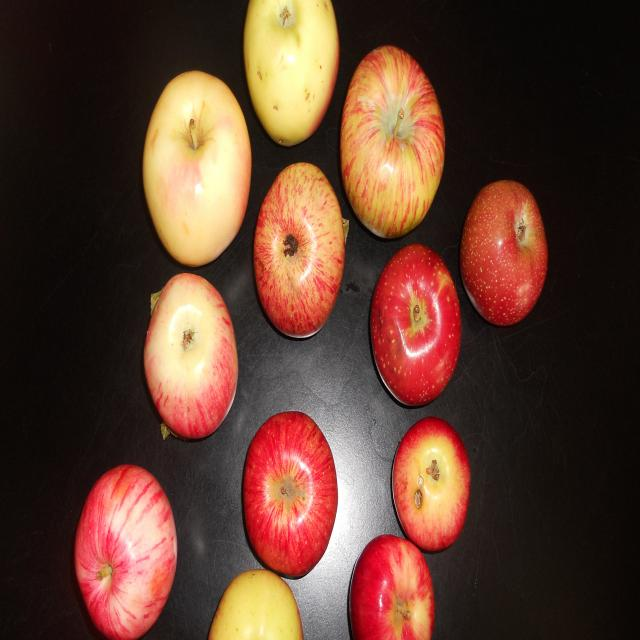Apple: (141, 66, 251, 267), (340, 43, 448, 234), (73, 459, 180, 640), (252, 169, 352, 339), (140, 269, 239, 434), (240, 411, 342, 569), (367, 242, 461, 407), (242, 3, 346, 148), (458, 169, 552, 329), (391, 411, 471, 551), (352, 529, 438, 640)
